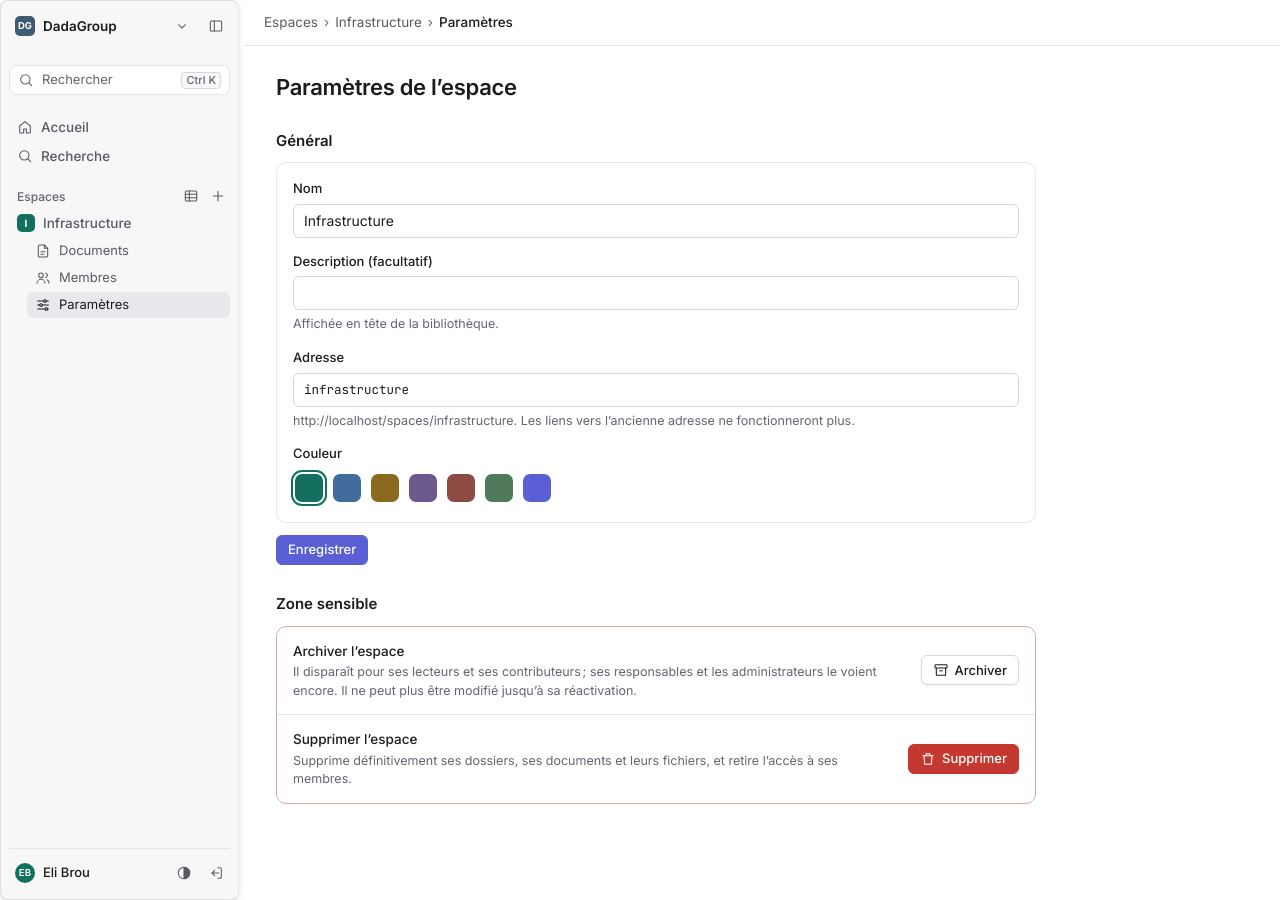
spaces › deletes a space once its name is typed
Click the button "Supprimer" at coordinates (964, 759), box left=908, top=744, right=1019, bottom=774
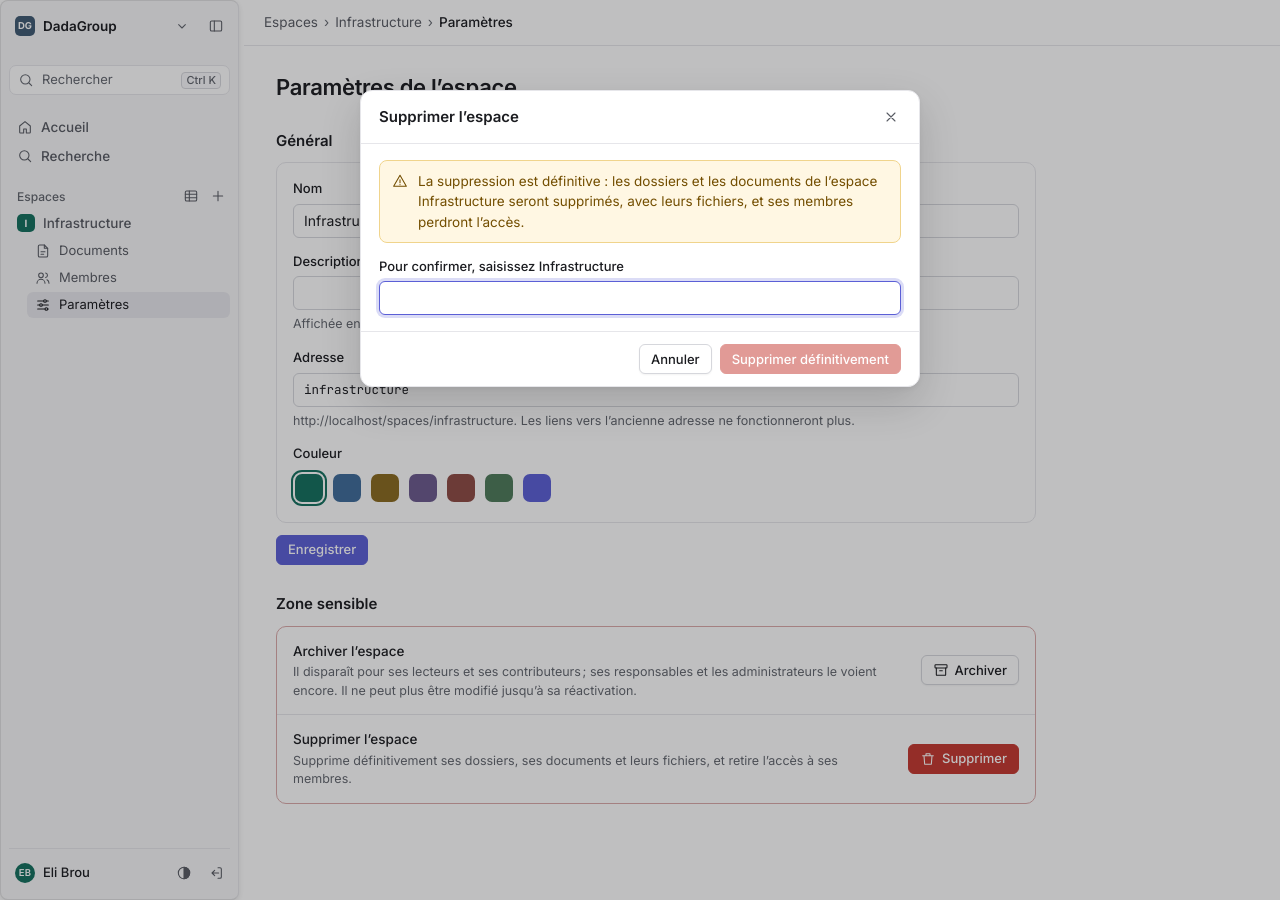
Check: the button "Supprimer définitivement" is disabled, box left=720, top=344, right=901, bottom=374
Type "Infrastructure" into the field labelled "Pour confirmer, saisissez Infrastructure" at coordinates (640, 298), box left=379, top=281, right=901, bottom=315
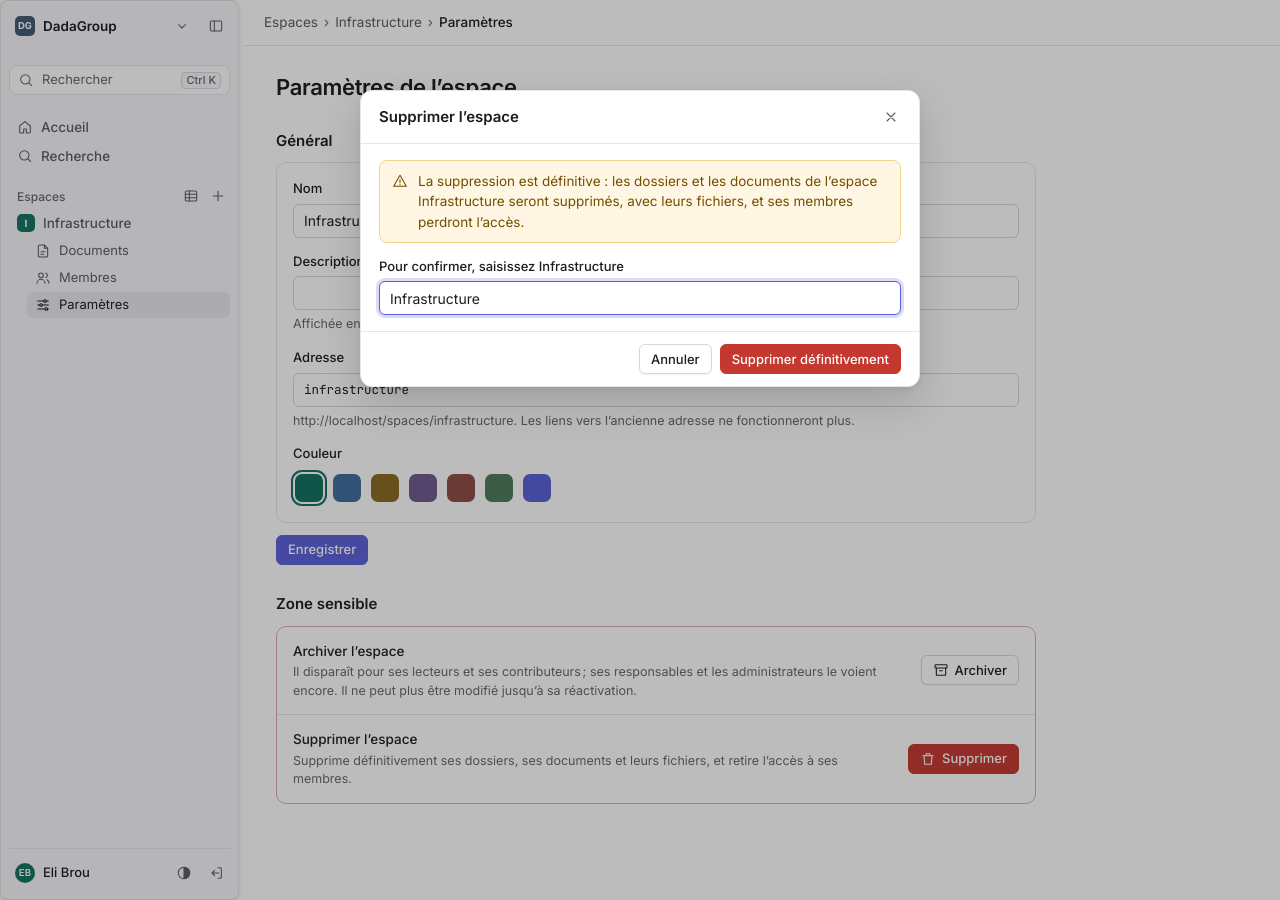
Click the button "Supprimer définitivement" at coordinates (810, 359), box left=720, top=344, right=901, bottom=374
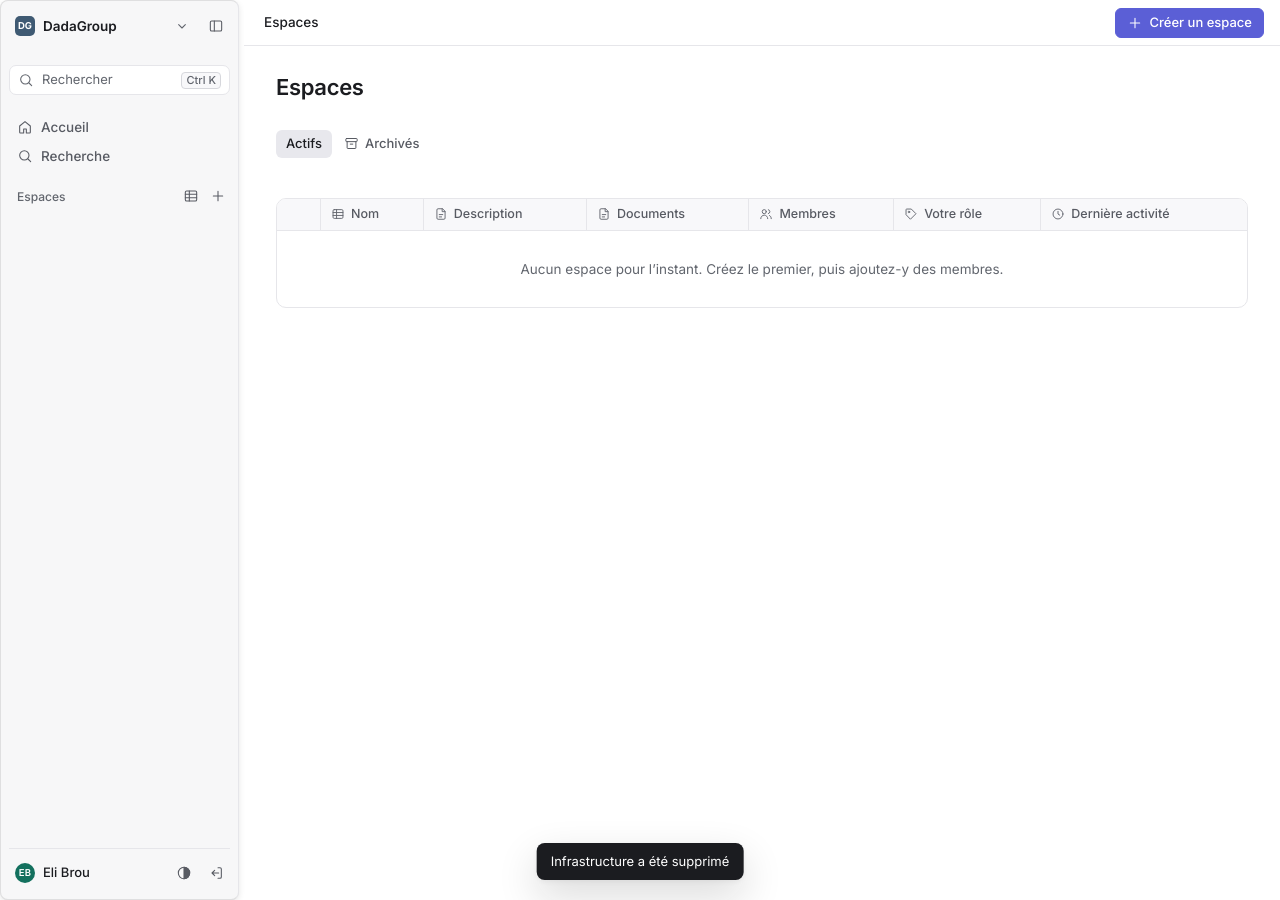
Check: the text "Infrastructure a été supprimé" is shown, box left=537, top=842, right=743, bottom=880
